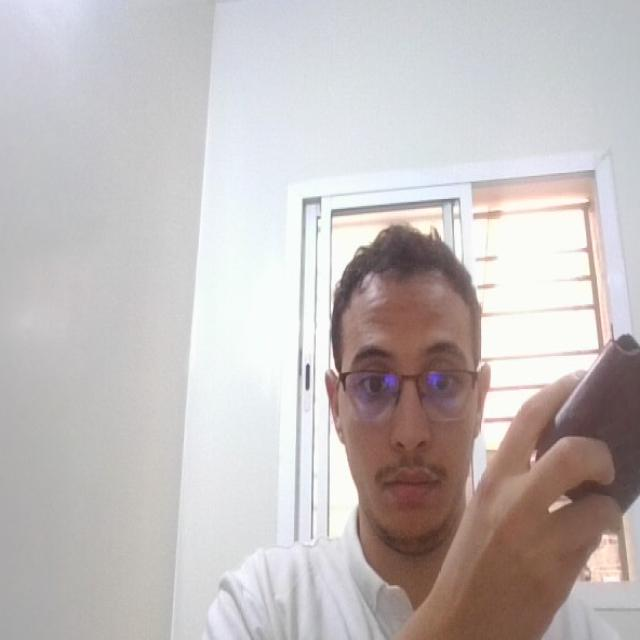wallet: (528, 330, 640, 539)
